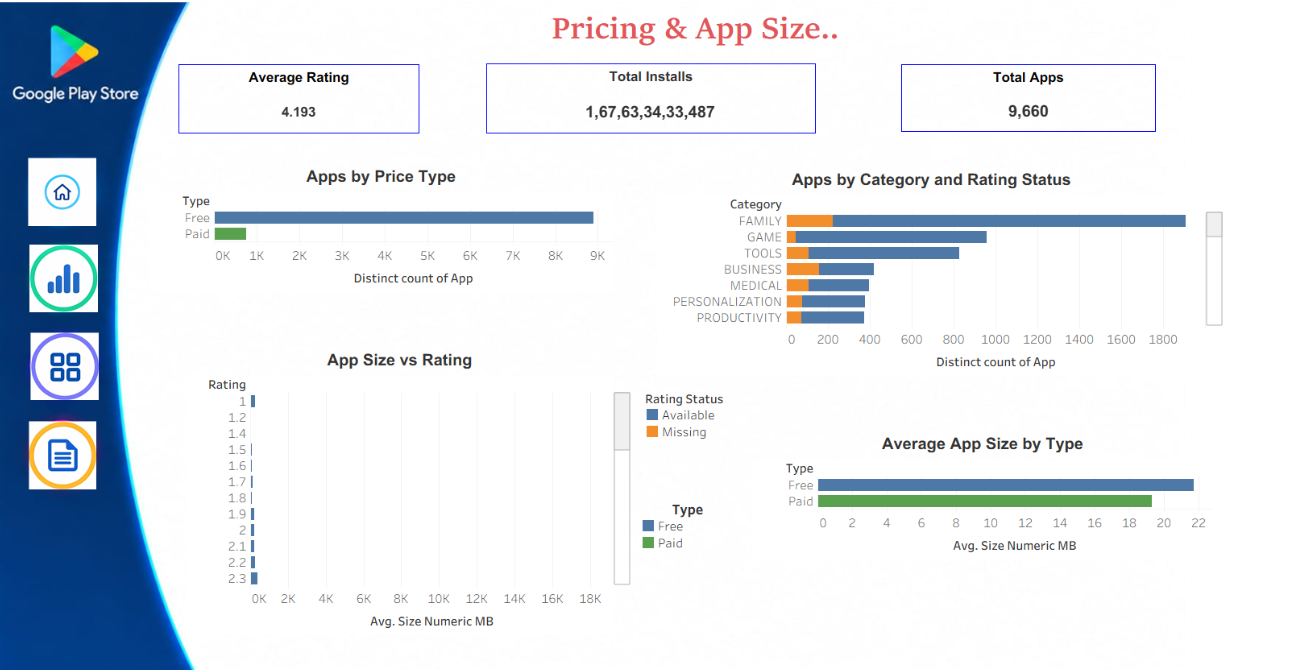

The page's visual inventory and layout, read from the dashboard file:
{"tool":"tableau","page":{"name":"Pricing & AppSize","canvas":[1570,837],"ordinal":2},"visuals":[{"type":"image","param":"C:/Users/hsami/Downloads/nowww.jpeg","box":[1,4,1562,830]},{"type":"title","box":[8,8,1554,45]},{"type":"text","box":[236,9,1259,60]},{"type":"worksheet","title":"Total Installs","mark":"Automatic","box":[606,80,409,87]},{"type":"worksheet","title":"Average Rating","mark":"Automatic","box":[224,81,299,86]},{"type":"worksheet","title":"Total Apps","mark":"Automatic","box":[1121,81,316,84]},{"type":"dashboard-object","box":[36,197,87,85]},{"type":"worksheet","title":"Apps by Price Type","mark":"Automatic","rows":["Type"],"cols":["App"],"box":[188,203,575,192]},{"type":"worksheet","title":"Apps by Category and Rating Status","mark":"Automatic","rows":["Category"],"cols":["App"],"box":[818,207,702,261]},{"type":"dashboard-object","box":[39,305,85,84]},{"type":"dashboard-object","box":[40,414,85,84]},{"type":"worksheet","title":"App Size vs Rating","mark":"Bar","rows":["Rating"],"cols":["Calculation_1333481655324673"],"box":[233,431,552,359]},{"type":"legend","title":"Apps by Category and Rating Status","param":"[federated.06sqnzf1c8rea11e5k3b30gwhmik].[none:Calculation_1333481656733700:nk]","box":[802,484,140,64]},{"type":"dashboard-object","box":[38,523,84,88]},{"type":"worksheet","title":"Average App Size by Type","mark":"Bar","rows":["Type"],"cols":["Calculation_1333481655324673"],"box":[937,535,570,235]},{"type":"legend","title":"Apps by Price Type","param":"[federated.06sqnzf1c8rea11e5k3b30gwhmik].[none:Type:nk]","box":[797,620,116,64]}]}

Visuals, with their boxes on the page's 1570x837 design canvas (x1, y1, x2, y2). These are canvas units, not pixel positions in the 1304x670 screenshot, which may show the page scaled, cropped or inside an application window:
image: 1, 4, 1563, 834
title: 8, 8, 1562, 53
text: 236, 9, 1495, 69
"Total Installs" worksheet: 606, 80, 1015, 167
"Average Rating" worksheet: 224, 81, 523, 167
"Total Apps" worksheet: 1121, 81, 1437, 165
dashboard-object: 36, 197, 123, 282
"Apps by Price Type" worksheet: 188, 203, 763, 395
"Apps by Category and Rating Status" worksheet: 818, 207, 1520, 468
dashboard-object: 39, 305, 124, 389
dashboard-object: 40, 414, 125, 498
"App Size vs Rating" worksheet (Bar marks): 233, 431, 785, 790
"Apps by Category and Rating Status" legend: 802, 484, 942, 548
dashboard-object: 38, 523, 122, 611
"Average App Size by Type" worksheet (Bar marks): 937, 535, 1507, 770
"Apps by Price Type" legend: 797, 620, 913, 684
